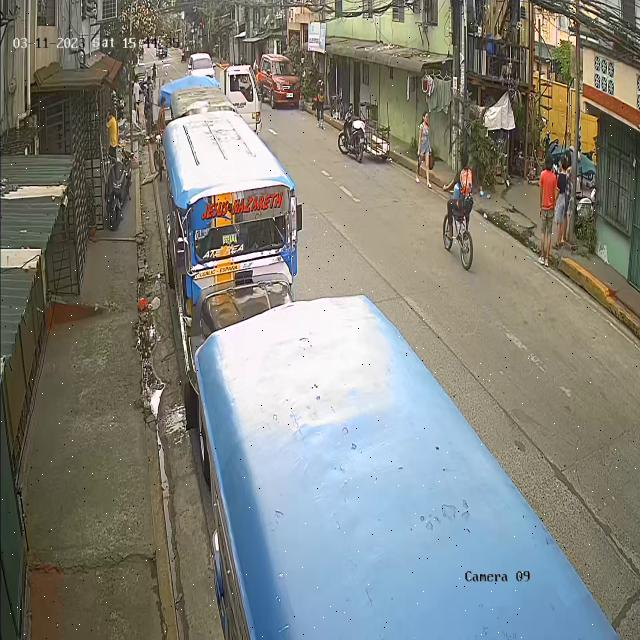garbage_dumping: (428, 150, 436, 170)
